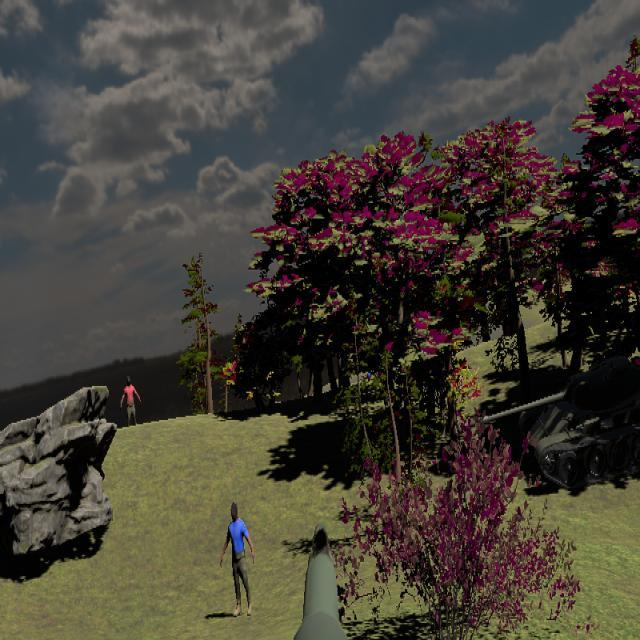Human: (219, 501, 254, 617), (121, 376, 142, 440)
Tank: (480, 350, 640, 492)
